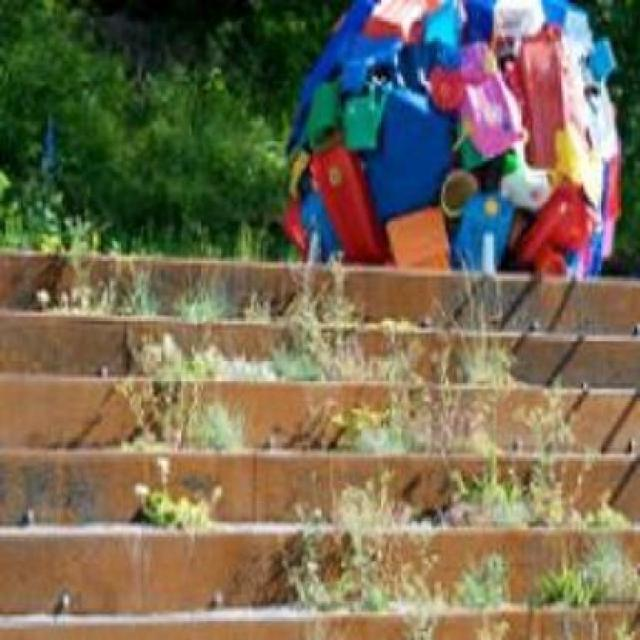stair: (6, 257, 640, 640)
